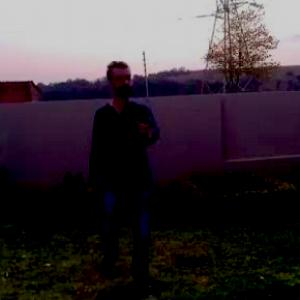takeoff-hand: (130, 108, 156, 142)
